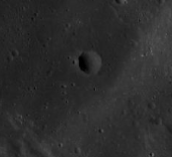crater: (43, 31, 153, 100)
